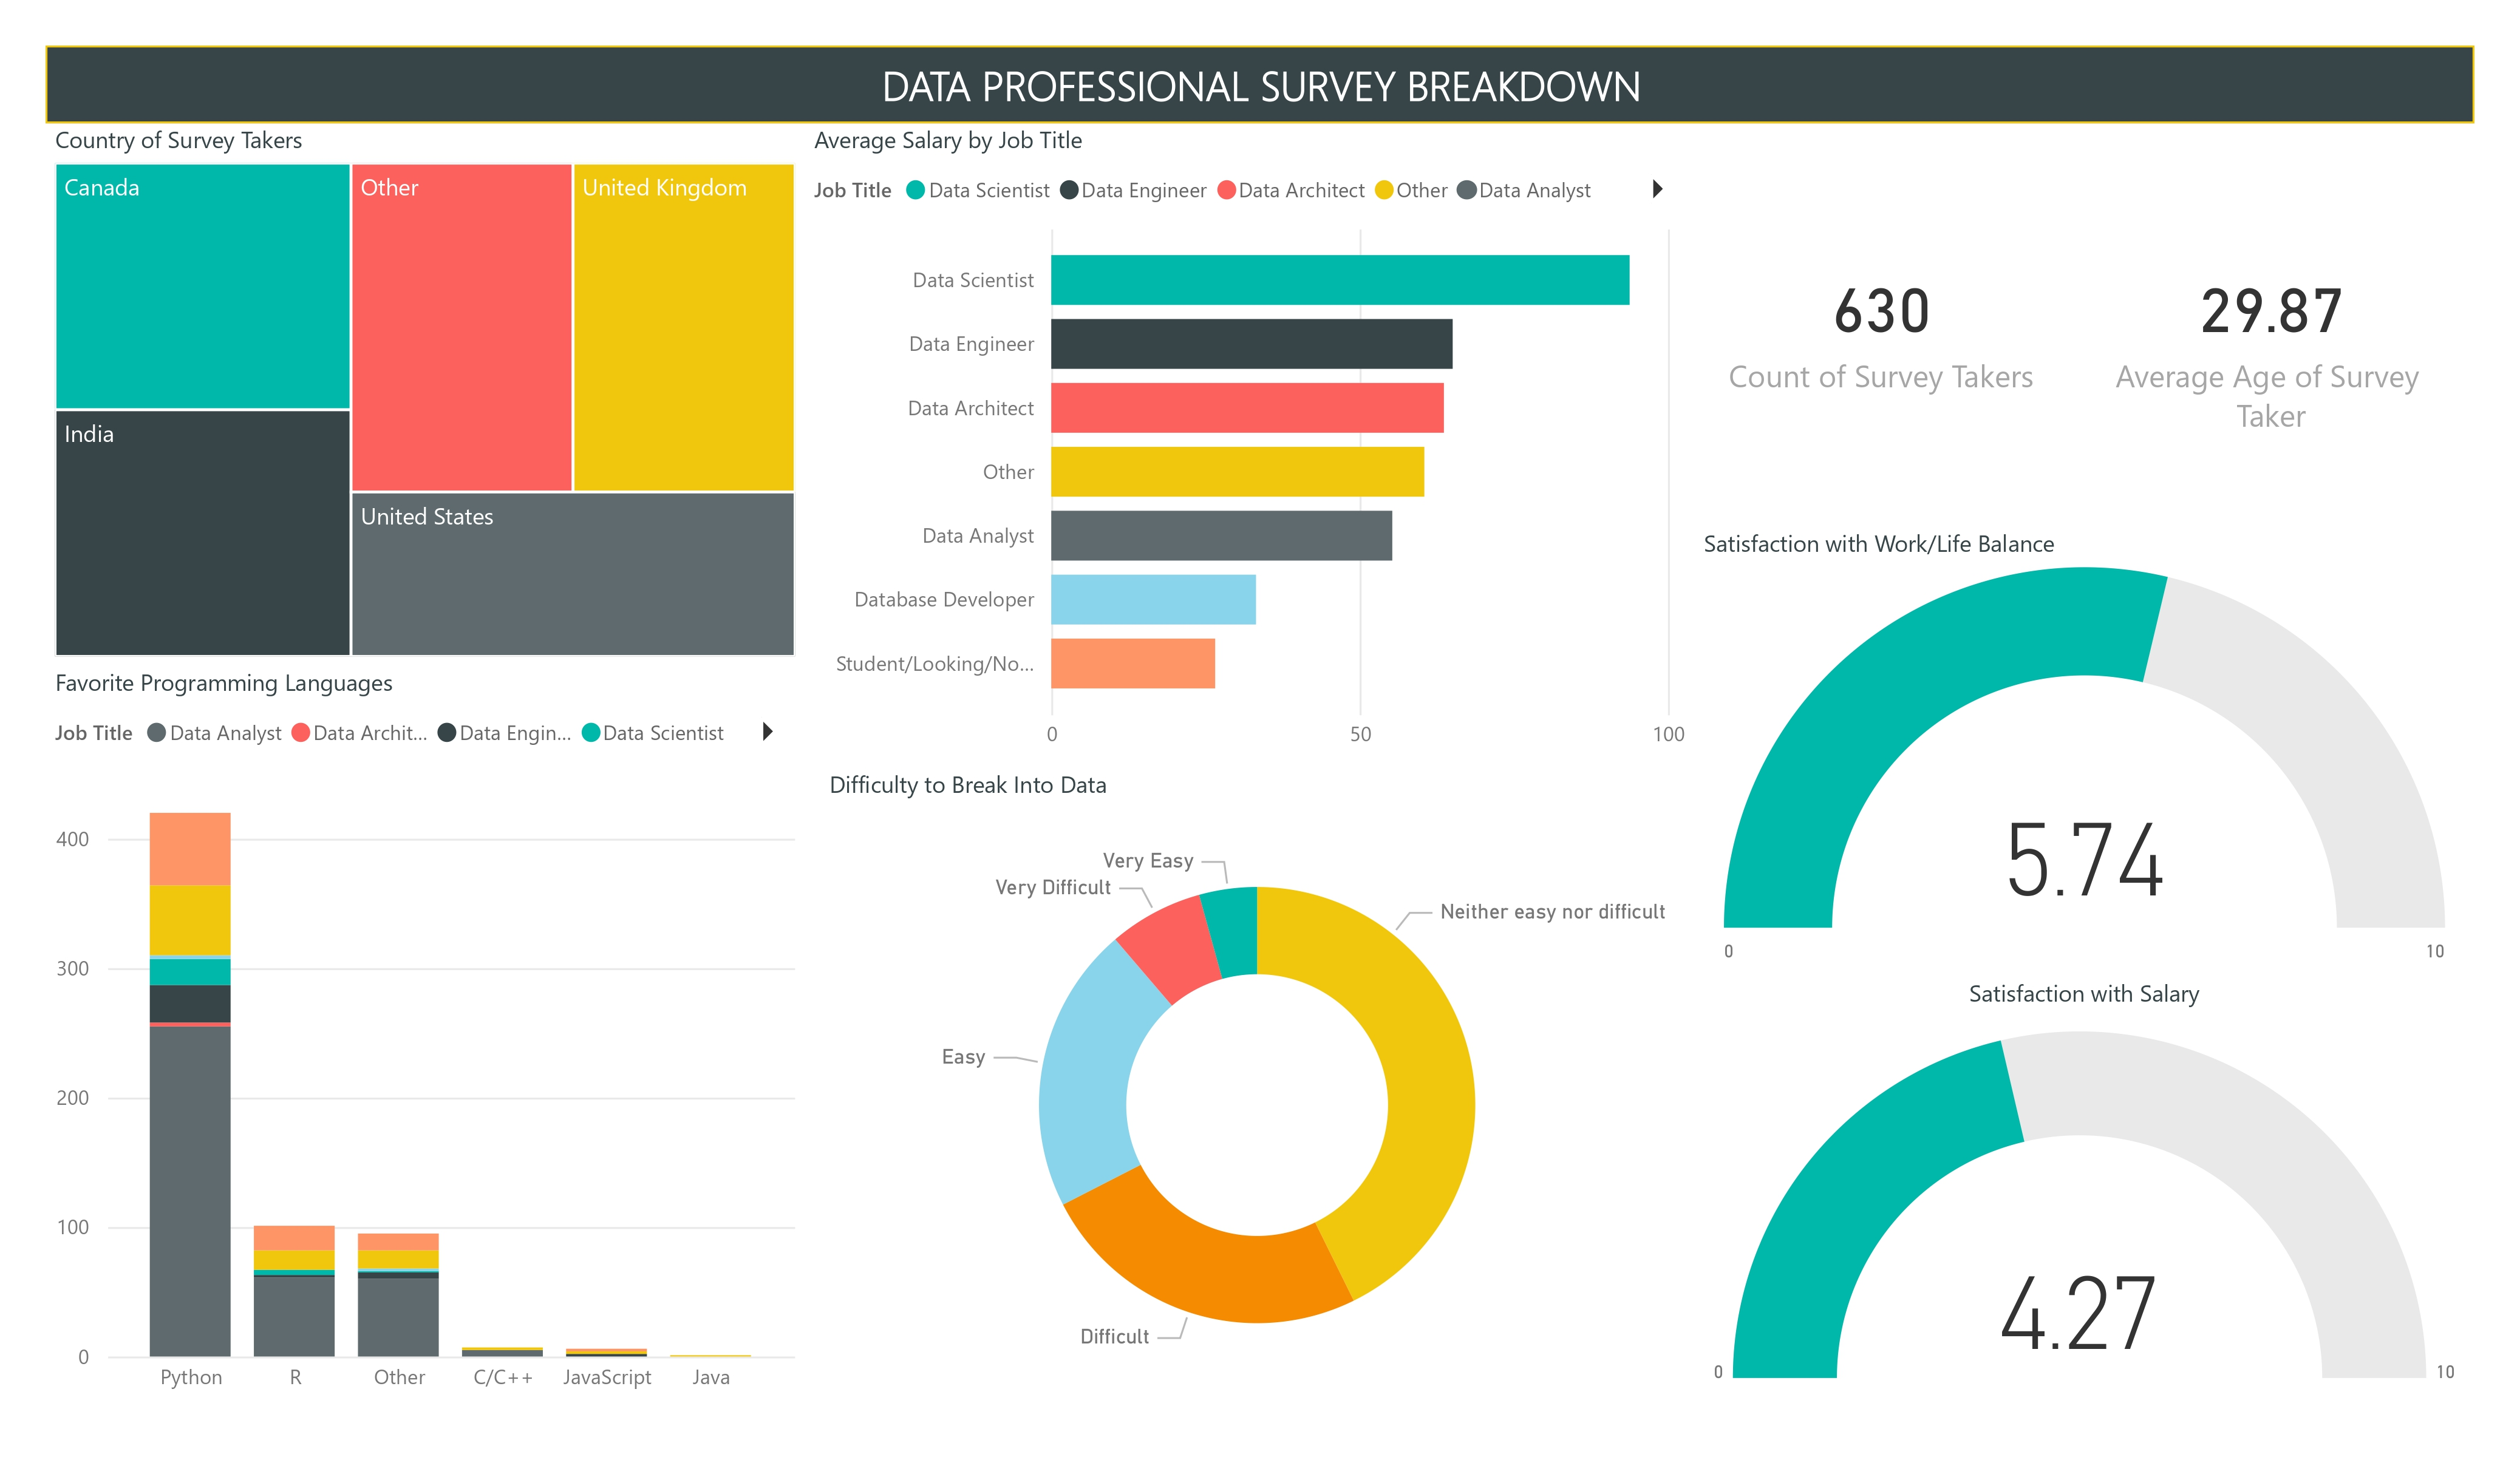

The dashboard page shown, as its layout file describes it:
{"tool":"powerbi","page":{"name":"Page 1","canvas":[1280,720],"ordinal":0},"visuals":[{"type":"textbox","box":[0,0,1280,40.9],"z":0},{"type":"card","fields":{"Values":["Count(Data Professional Survey.Unique ID)"]},"box":[869.5,41.4,196.7,212.8],"z":1000},{"type":"card","fields":{"Values":["Avg(Data Professional Survey.Q10 - Current Age)"]},"box":[1066.2,41.4,213.8,212.8],"z":2000},{"type":"barChart","title":"Average Salary by Job Title","fields":{"Category":["Data Professional Survey.Q1 - Which Title Best Fits your Current Role?.1"],"Y":["Avg(Data Professional Survey.Average Salary)"],"Series":["Data Professional Survey.Q1 - Which Title Best Fits your Current Role?.1"]},"box":[400.4,41.4,469,339.9],"z":3000},{"type":"columnChart","title":"Favorite Programming Languages","fields":{"Category":["Data Professional Survey.Q5 - Favorite Programming Language.1"],"Y":["CountNonNull(Data Professional Survey.Unique ID)"],"Series":["Data Professional Survey.Q1 - Which Title Best Fits your Current Role?.1"]},"box":[0,326.8,400.4,393.4],"z":3001},{"type":"treemap","title":"Country of Survey Takers","fields":{"Group":["Data Professional Survey.Q11 - Which Country do you live in?.1"],"Values":["Count(Data Professional Survey.Q11 - Which Country do you live in?.1)"]},"box":[0,41.4,400.4,285.5],"z":3002},{"type":"gauge","title":"Satisfaction with Salary","fields":{"Y":["Avg(Data Professional Survey.Q6 - How Happy are you in your Current Position with the following? (Salary))"],"MinValue":["Min(Data Professional Survey.Q6 - How Happy are you in your Current Position with the following? (Salary))1"],"MaxValue":["Max(Data Professional Survey.Q6 - How Happy are you in your Current Position with the following? (Salary))2"]},"box":[869.5,491.2,410.5,229],"z":3003},{"type":"gauge","title":"Satisfaction with Work/Life Balance","fields":{"Y":["Avg(Data Professional Survey.Q6 - How Happy are you in your Current Position with the following? (Work/Life Balance))"],"MinValue":["Min(Data Professional Survey.Q6 - How Happy are you in your Current Position with the following? (Work/Life Balance))1"],"MaxValue":["Max(Data Professional Survey.Q6 - How Happy are you in your Current Position with the following? (Work/Life Balance))2"]},"box":[869.5,254.2,410.5,237],"z":3004},{"type":"donutChart","title":"Difficulty to Break Into Data","fields":{"Category":["Data Professional Survey.Q7 - How difficult was it for you to break into Data?"],"Y":["CountNonNull(Data Professional Survey.Q7 - How difficult was it for you to break into Data?)"]},"box":[407.5,381.3,462,338.9],"z":3005}]}

Visuals, with their boxes on the page's 1280x720 design canvas (x1, y1, x2, y2). These are canvas units, not pixel positions in the 2520x1457 screenshot, which may show the page scaled, cropped or inside an application window:
textbox: bbox=[0, 0, 1280, 41]
card - Count(Data Professional Survey.Unique ID): bbox=[870, 41, 1066, 254]
card - Avg(Data Professional Survey.Q10 - Current Age): bbox=[1066, 41, 1280, 254]
"Average Salary by Job Title" barChart: bbox=[400, 41, 869, 381]
"Favorite Programming Languages" columnChart: bbox=[0, 327, 400, 720]
"Country of Survey Takers" treemap: bbox=[0, 41, 400, 327]
"Satisfaction with Salary" gauge: bbox=[870, 491, 1280, 720]
"Satisfaction with Work/Life Balance" gauge: bbox=[870, 254, 1280, 491]
"Difficulty to Break Into Data" donutChart: bbox=[408, 381, 870, 720]
